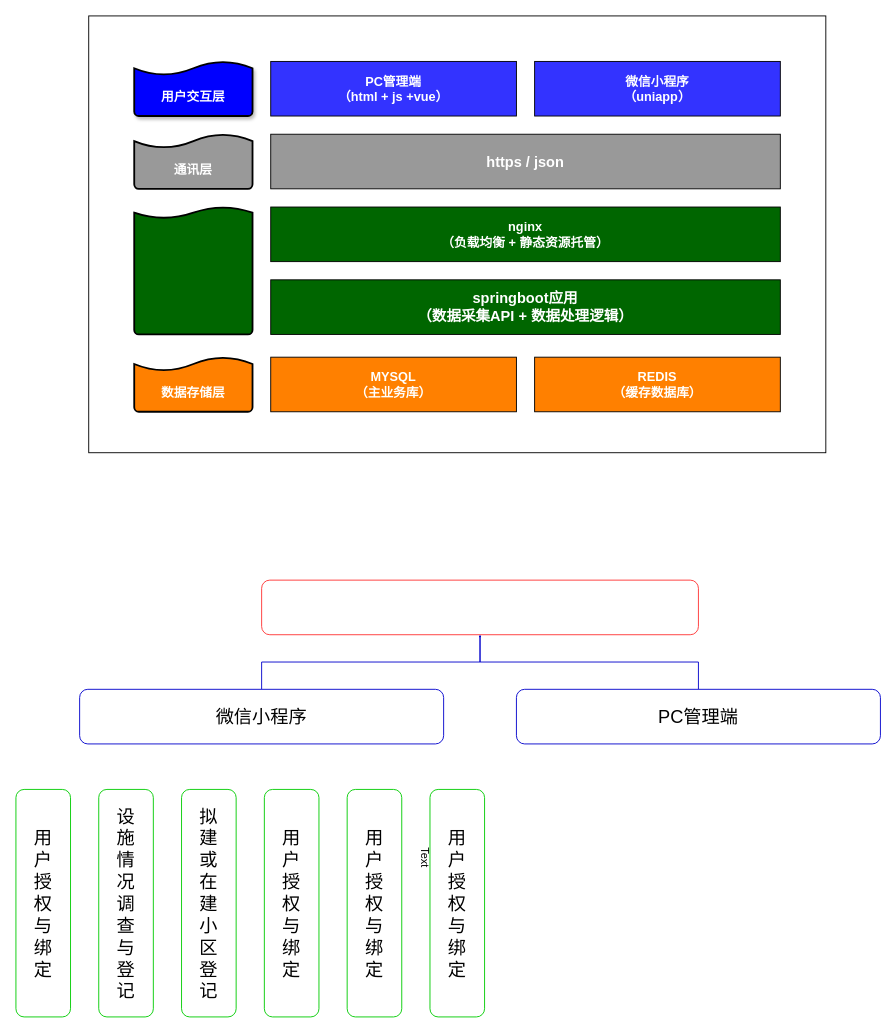
Image size: 896x1033. Some labels were removed from this diagram. The centre of each missing label's shape, as x and y in pixels:
城市二次供水电子档案管理系统: point 479,607
服务接入层: point 193,270
